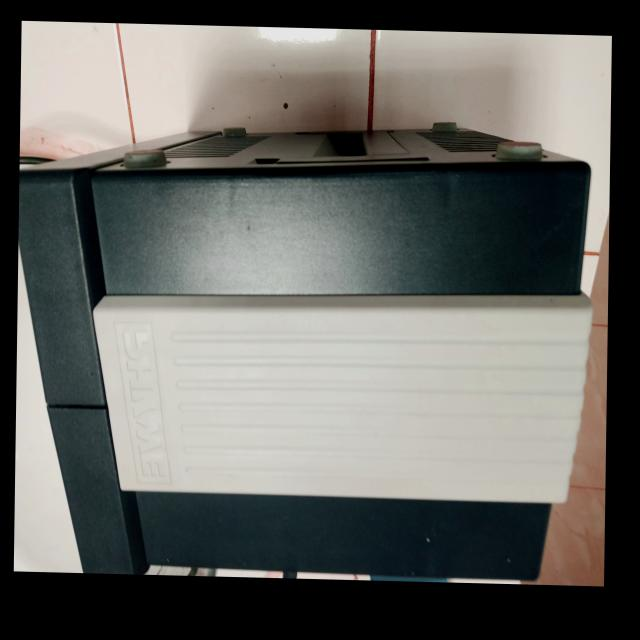Teslameter PS: (21, 85, 604, 548)
